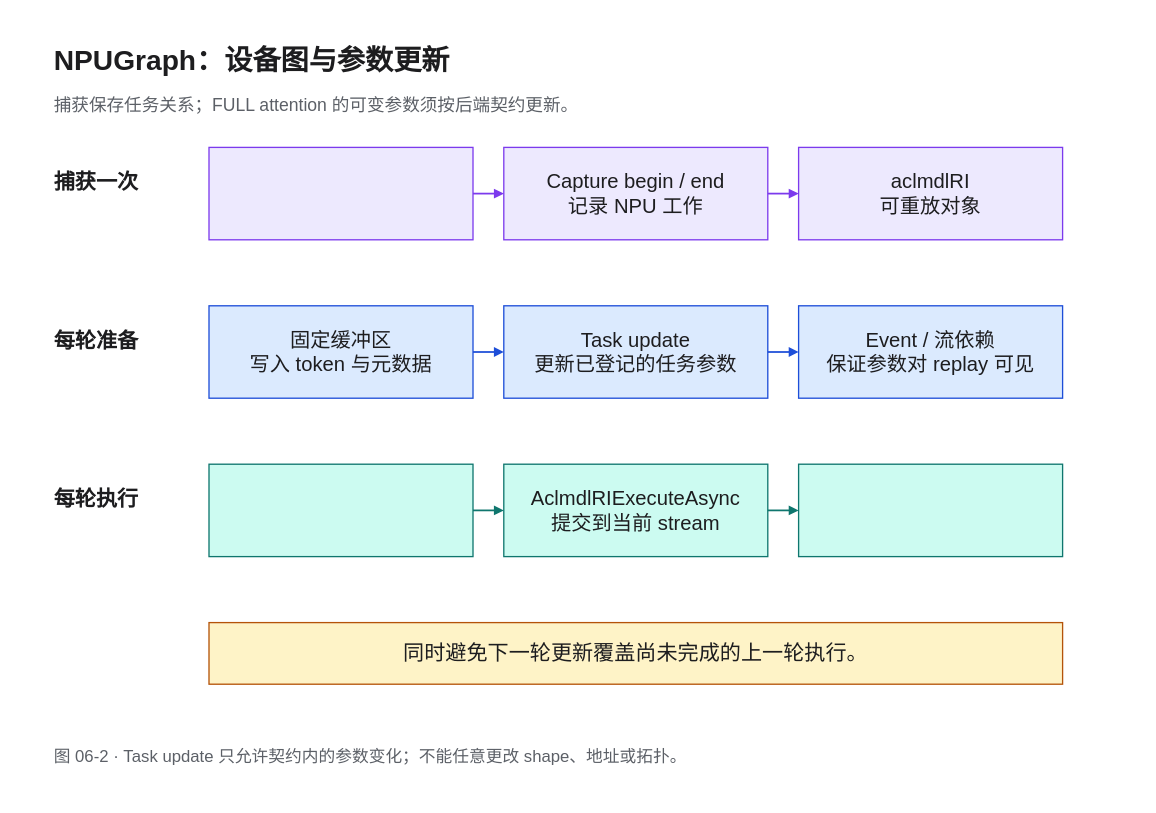
Image size: 1156x813. Some labels were removed from this diagram. Each missing label, with the box of its shape:
NPUGraph.replay(): (208, 463, 473, 557)
图私有池 设备与 pinned host 分配: (208, 146, 473, 240)
读取本轮数据与参数 输出写回原槽位: (798, 463, 1063, 557)
